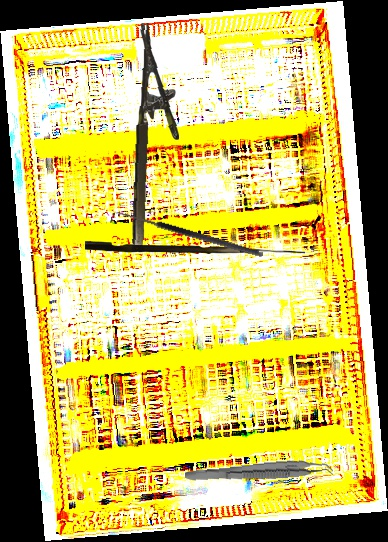Hook Surgical: (109, 207, 265, 266), (85, 241, 305, 254)
Needle Holder: (129, 23, 185, 247)
Tissue Forceps: (184, 456, 334, 490)
